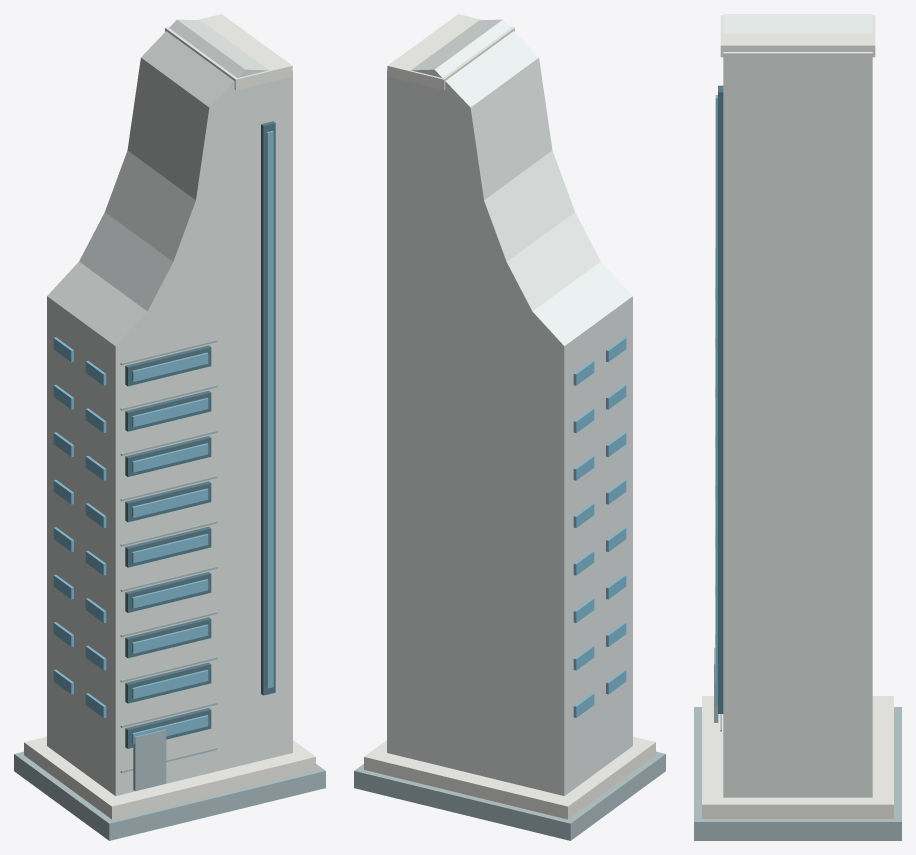
Rendered from 01_stepped_tower.glb.
The picture shows the model from 3 angles, left to right: view 1: azimuth 30°, elevation 25°; view 2: azimuth 150°, elevation 25°; view 3: azimuth 270°, elevation 25°; orthographic projection. The views are drawn at different scales.
Visible parts, largest first — view 1: asymmetric_tower_shell, window_reveal (×9), blue_glazing (×9), plinth, foundation, vertical_shadow_channel, vertical_glass_strip, roof_cap, service_door; view 2: asymmetric_tower_shell, plinth, foundation, roof_cap; view 3: asymmetric_tower_shell, plinth, foundation, vertical_shadow_channel, roof_cap, vertical_glass_strip.
Boxes of the visible parts, left/top/right/bottom form: asymmetric_tower_shell: left=47, top=19, right=292, bottom=795; window_reveal (×9): left=125, top=345, right=211, bottom=748; blue_glazing (×9): left=132, top=352, right=208, bottom=744; plinth: left=24, top=736, right=315, bottom=819; foundation: left=14, top=751, right=325, bottom=840; vertical_shadow_channel: left=261, top=121, right=275, bottom=695; vertical_glass_strip: left=266, top=131, right=273, bottom=688; roof_cap: left=165, top=14, right=292, bottom=90; service_door: left=133, top=729, right=166, bottom=790; asymmetric_tower_shell: left=387, top=19, right=632, bottom=795; plinth: left=364, top=736, right=655, bottom=819; foundation: left=354, top=751, right=665, bottom=840; roof_cap: left=387, top=14, right=514, bottom=90; asymmetric_tower_shell: left=723, top=14, right=872, bottom=797; plinth: left=702, top=696, right=893, bottom=818; foundation: left=694, top=707, right=901, bottom=840; vertical_shadow_channel: left=718, top=85, right=723, bottom=713; roof_cap: left=720, top=15, right=875, bottom=57; vertical_glass_strip: left=715, top=95, right=717, bottom=704.
Size of the model in its own units: 2.1 by 6.72 by 1.6.
